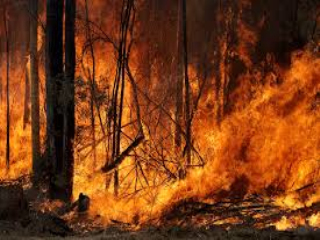fire: (69, 34, 311, 221)
